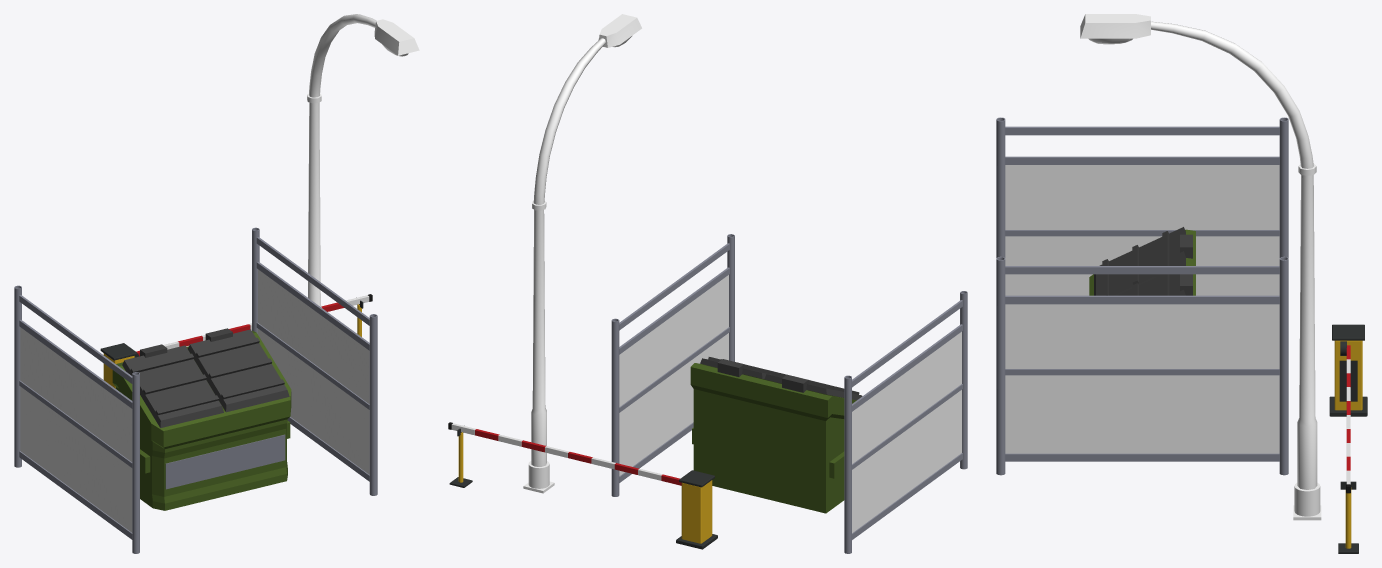
Rendered from combo-waste-service-point.glb.
3 renders of one model, left to right at view 1: azimuth 30°, elevation 25°; view 2: azimuth 150°, elevation 25°; view 3: azimuth 270°, elevation 25°, orthographic. The views are drawn at different scales.
Parts seen in each view (by area): view 1: asset-077_4, asset-077_6, asset-080_1, asset-080_0, asset-077_3, asset-077_5, asset-075_15, asset-080_2; view 2: asset-080_1, asset-077_4, asset-077_6, asset-075_15, asset-077_3, asset-077_5, asset-078_9, asset-080_0, asset-078_12, asset-078_11, asset-078_10; view 3: asset-077_6, asset-077_4, asset-077_5, asset-075_15, asset-077_3, asset-080_0, asset-078_10, asset-078_9.
Boxes of the visible parts, left/top/right/bottom form: asset-077_4: left=20, top=327, right=132, bottom=532; asset-077_6: left=258, top=269, right=369, bottom=474; asset-080_1: left=112, top=331, right=291, bottom=510; asset-080_0: left=122, top=328, right=289, bottom=428; asset-077_3: left=14, top=285, right=139, bottom=553; asset-077_5: left=252, top=227, right=377, bottom=495; asset-075_15: left=307, top=14, right=419, bottom=307; asset-080_2: left=165, top=434, right=285, bottom=489; asset-080_1: left=690, top=363, right=856, bottom=513; asset-077_4: left=852, top=331, right=961, bottom=532; asset-077_6: left=619, top=275, right=728, bottom=475; asset-075_15: left=523, top=14, right=641, bottom=493; asset-077_3: left=844, top=291, right=967, bottom=553; asset-077_5: left=611, top=234, right=734, bottom=496; asset-078_9: left=681, top=480, right=712, bottom=543; asset-080_0: left=700, top=357, right=862, bottom=400; asset-078_12: left=451, top=423, right=662, bottom=480; asset-078_11: left=475, top=429, right=681, bottom=485; asset-078_10: left=676, top=470, right=717, bottom=549; asset-077_6: left=1005, top=304, right=1279, bottom=453; asset-077_4: left=1005, top=165, right=1279, bottom=295; asset-077_5: left=996, top=256, right=1288, bottom=475; asset-075_15: left=1080, top=14, right=1321, bottom=520; asset-077_3: left=996, top=117, right=1288, bottom=257; asset-080_0: left=1094, top=227, right=1192, bottom=295; asset-078_10: left=1329, top=324, right=1367, bottom=416; asset-078_9: left=1334, top=340, right=1362, bottom=410.
Bounding box in the file's own units: 6.47 × 6.67 × 4.5.
